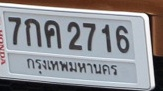num7: (6, 15, 23, 47)
txt01: (23, 18, 43, 48)
txt03: (43, 19, 63, 50)
